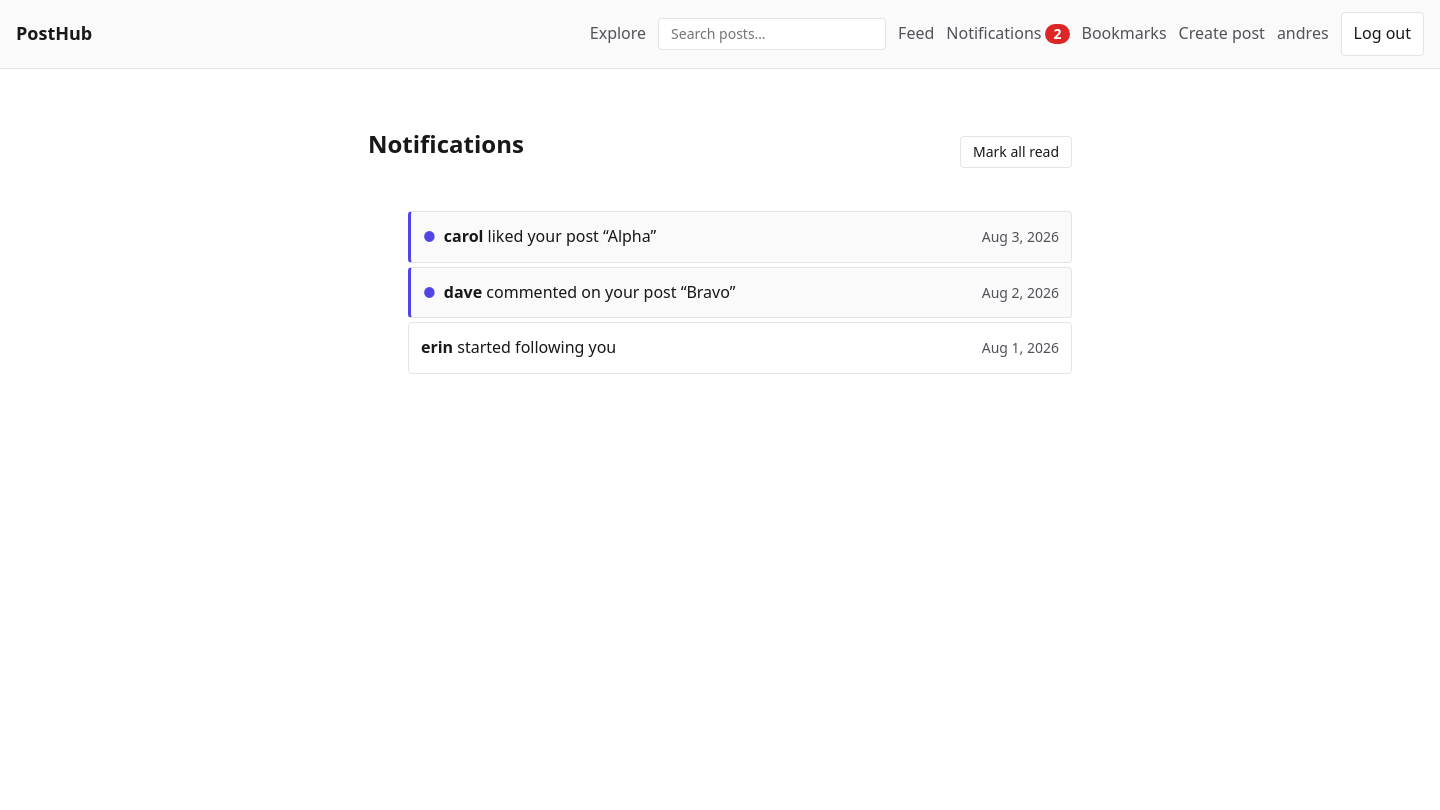
Notifications › marks a notification read on open, dropping the badge by one
Check: the text named "2 unread" is shown, box [1046,24,1070,44]
Click the text "carol": (464, 236) [444,225,483,247]
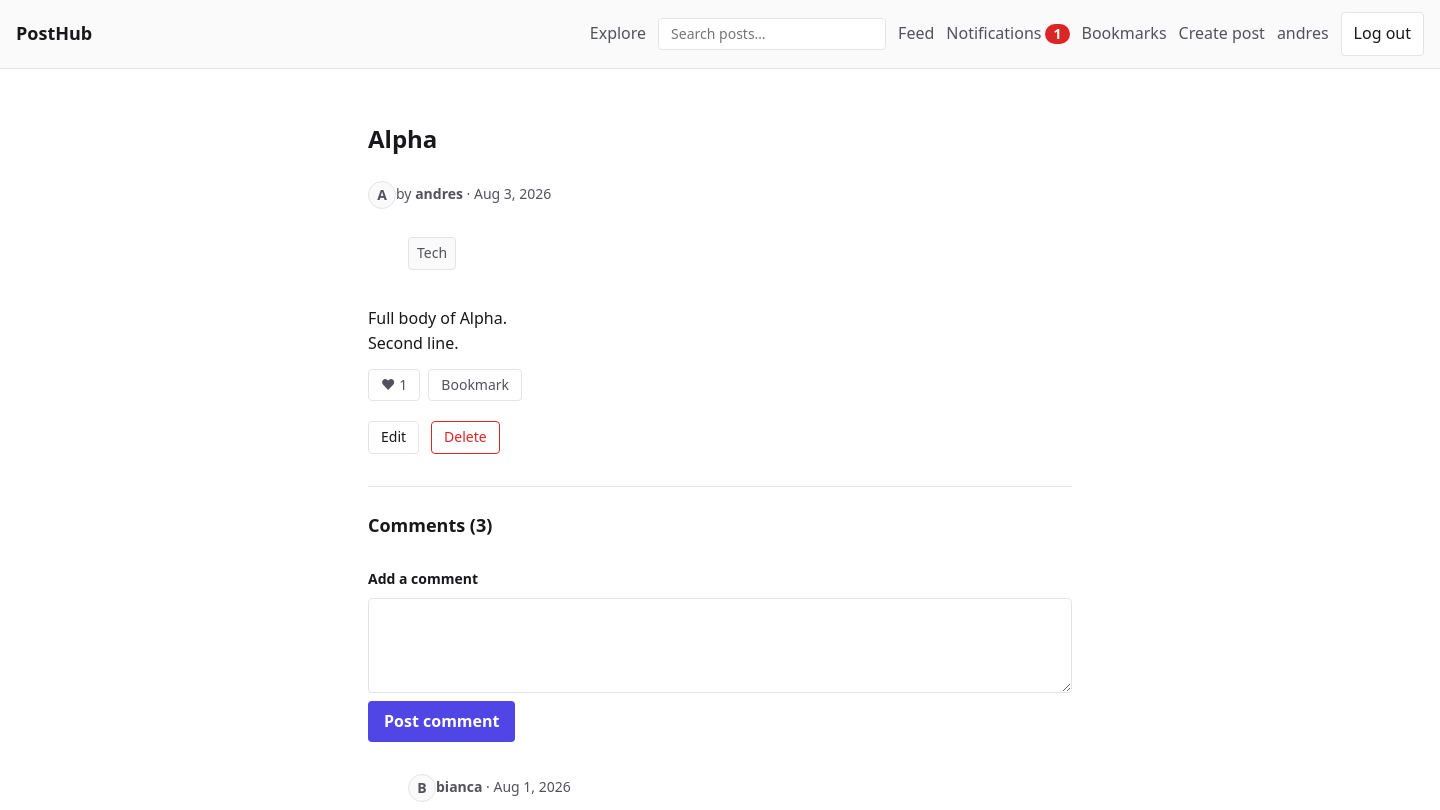
Check: the heading "Alpha" is shown, box [368,122,437,155]
Check: the text named "1 unread" is shown, box [1046,24,1070,44]
